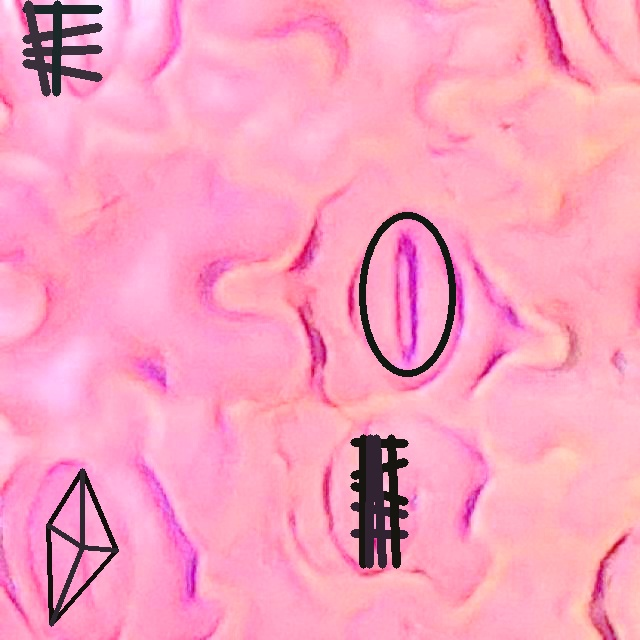close: (47, 468, 118, 626), (22, 1, 102, 96)
open: (358, 210, 456, 377), (351, 435, 407, 567)
